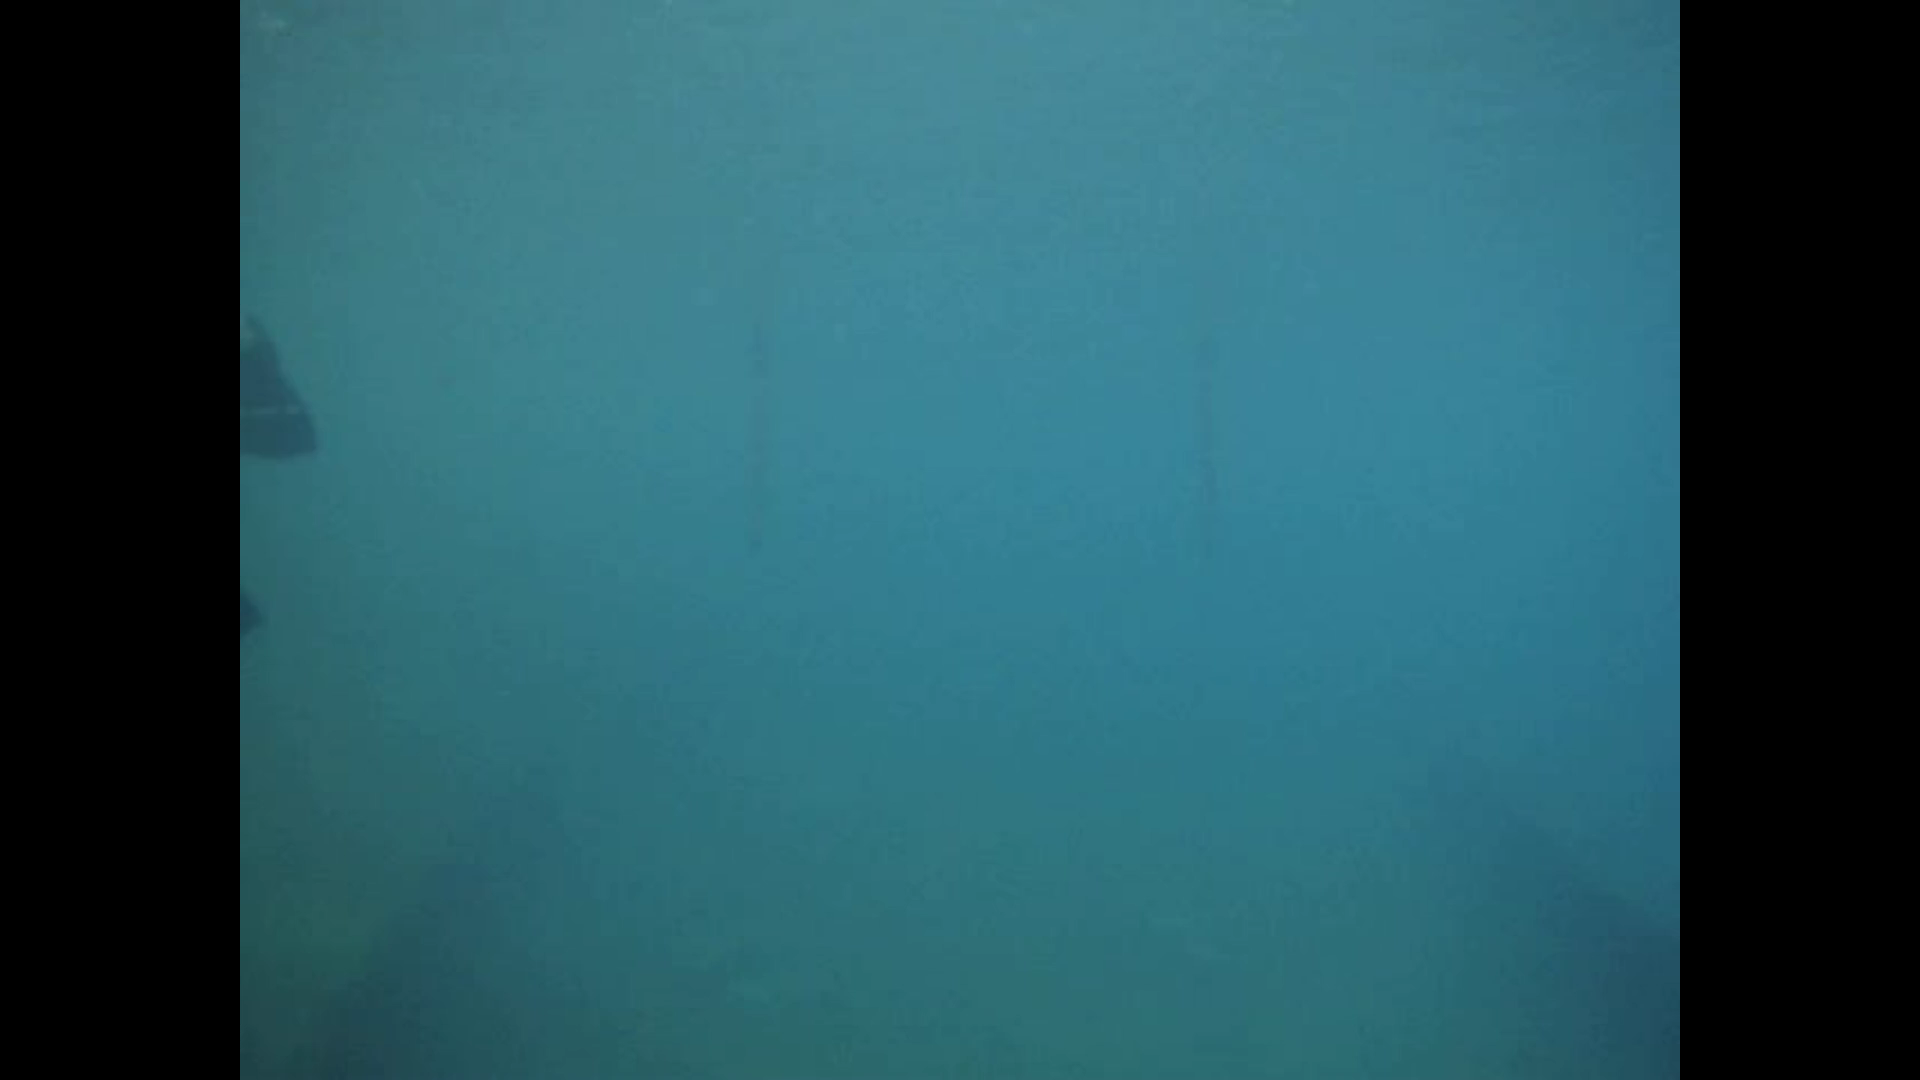gate: (742, 302, 1226, 568)
